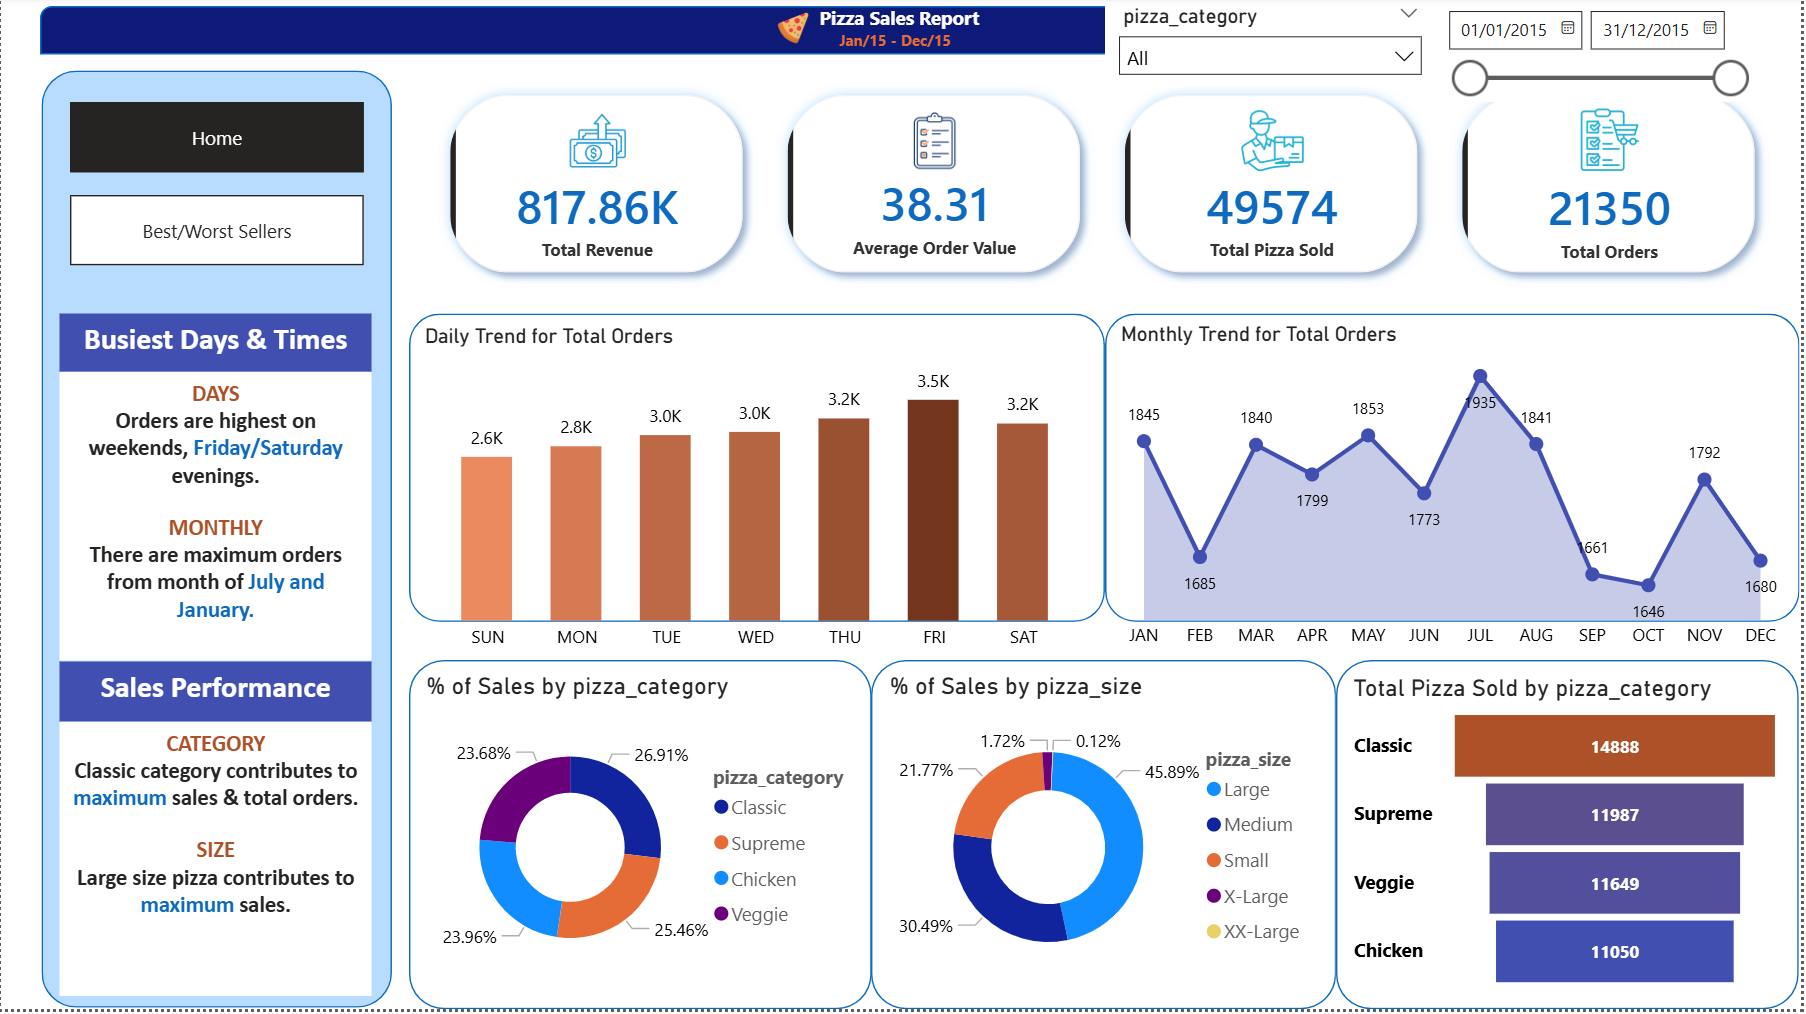

Layout of this report page (visuals, bound fields, positions):
{"tool":"powerbi","page":{"name":"Home","canvas":[1280,720],"ordinal":0},"visuals":[{"type":"shape","box":[290.2,224.9,495.1,219.4],"z":1000},{"type":"columnChart","title":"Daily Trend for Total Orders","fields":{"Category":["pizza_sales.Order Day"],"Y":["pizza_sales.Total Orders"]},"box":[296.4,232.3,480.2,240.8],"z":1500},{"type":"cardVisual","fields":{"Data":["pizza_sales.Total Revenue","pizza_sales.Average Order Value","pizza_sales.Total Pizza Sold","pizza_sales.Total Orders"]},"box":[290.2,40.8,989.3,184.1],"z":2000},{"type":"shape","box":[28.1,6.3,1224.2,34.5],"z":3000},{"type":"textbox","box":[577.6,0,140.6,29],"z":4000},{"type":"textbox","box":[591.2,14.5,97,38.1],"z":5000},{"type":"image","box":[549.5,10.9,28.1,22.7],"z":6000},{"type":"shape","box":[785.3,224.9,494.2,219.4],"z":6001},{"type":"areaChart","title":"Monthly Trend for Total Orders","fields":{"Y":["pizza_sales.Total Orders"],"Category":["pizza_sales.Order Month"]},"box":[791.6,231.2,480.6,240.3],"z":6002},{"type":"shape","box":[290.2,471.5,329.2,248.5],"z":6003},{"type":"shape","box":[950.3,471.5,329.2,248.5],"z":6004},{"type":"shape","box":[619.3,471.5,331,248.5],"z":6005},{"type":"donutChart","title":"% of Sales by pizza_category","fields":{"Category":["pizza_sales.pizza_category"],"Y":["pizza_sales.Total Revenue"]},"box":[297.4,480.6,313.8,229.4],"z":6006},{"type":"donutChart","title":"% of Sales by pizza_size","fields":{"Category":["pizza_sales.pizza_size"],"Y":["pizza_sales.Total Revenue"]},"box":[627.7,480,314.5,229.2],"z":6007},{"type":"funnel","fields":{"Y":["pizza_sales.Total Pizza Sold"],"Category":["pizza_sales.pizza_category"]},"box":[957.5,481.3,314.5,229.2],"z":6008},{"type":"shape","box":[28.5,52.7,249.4,666.8],"z":6009},{"type":"textbox","box":[41.3,225.1,222.3,41.3],"z":6010},{"type":"textbox","box":[41.3,266.5,222.3,205.2],"z":6011},{"type":"textbox","box":[41.3,515.8,222.3,195.2],"z":6012},{"type":"textbox","box":[41.3,473.1,222.3,42.7],"z":6013},{"type":"slicer","fields":{"Values":["pizza_sales.pizza_category"]},"box":[785.1,0,235.1,64.1],"z":6014},{"type":"slicer","fields":{"Values":["pizza_sales.order_date"]},"box":[1017.4,0,235.1,74.1],"z":6015},{"type":"pageNavigator","box":[48.9,74.5,209,50],"z":6016},{"type":"pageNavigator","box":[48.9,141.2,209,50],"z":6017}]}

Visuals, with their boxes in screenshot pixels (x1, y1, x2, y2), scaled from the page's 1280x720 canvas onto the 1806x1014 screenshot:
shape: bbox(409, 317, 1108, 626)
"Daily Trend for Total Orders" columnChart: bbox(418, 327, 1096, 666)
cardVisual - pizza_sales.Total Revenue x pizza_sales.Average Order Value: bbox(409, 57, 1805, 317)
shape: bbox(40, 9, 1767, 57)
textbox: bbox(815, 0, 1013, 41)
textbox: bbox(834, 20, 971, 74)
image: bbox(775, 15, 815, 47)
shape: bbox(1108, 317, 1805, 626)
"Monthly Trend for Total Orders" areaChart: bbox(1117, 326, 1795, 664)
shape: bbox(409, 664, 874, 1013)
shape: bbox(1341, 664, 1805, 1013)
shape: bbox(874, 664, 1341, 1013)
"% of Sales by pizza_category" donutChart: bbox(420, 677, 862, 1000)
"% of Sales by pizza_size" donutChart: bbox(886, 676, 1329, 999)
funnel - pizza_sales.Total Pizza Sold x pizza_sales.pizza_category: bbox(1351, 678, 1795, 1001)
shape: bbox(40, 74, 392, 1013)
textbox: bbox(58, 317, 372, 375)
textbox: bbox(58, 375, 372, 664)
textbox: bbox(58, 726, 372, 1001)
textbox: bbox(58, 666, 372, 726)
slicer - pizza_sales.pizza_category: bbox(1108, 0, 1439, 90)
slicer - pizza_sales.order_date: bbox(1435, 0, 1767, 104)
pageNavigator: bbox(69, 105, 364, 175)
pageNavigator: bbox(69, 199, 364, 269)
